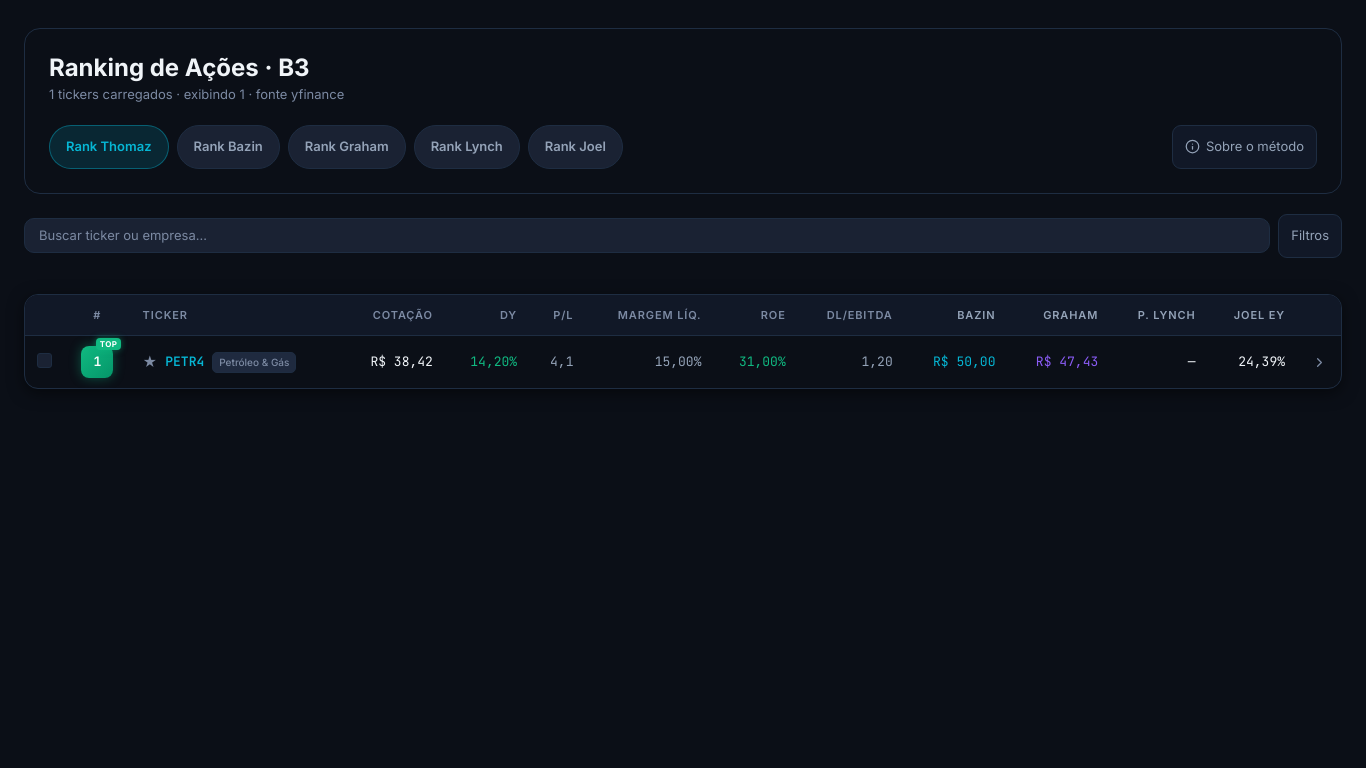
Scenario: RankingPage — controles secundários atrás do botão Filtros › no desktop, clicar em Filtros revela adicionar ticker e a faixa de setores
Click the button "Filtros".
click(1310, 236)  # box 1278,214 -> 1342,258
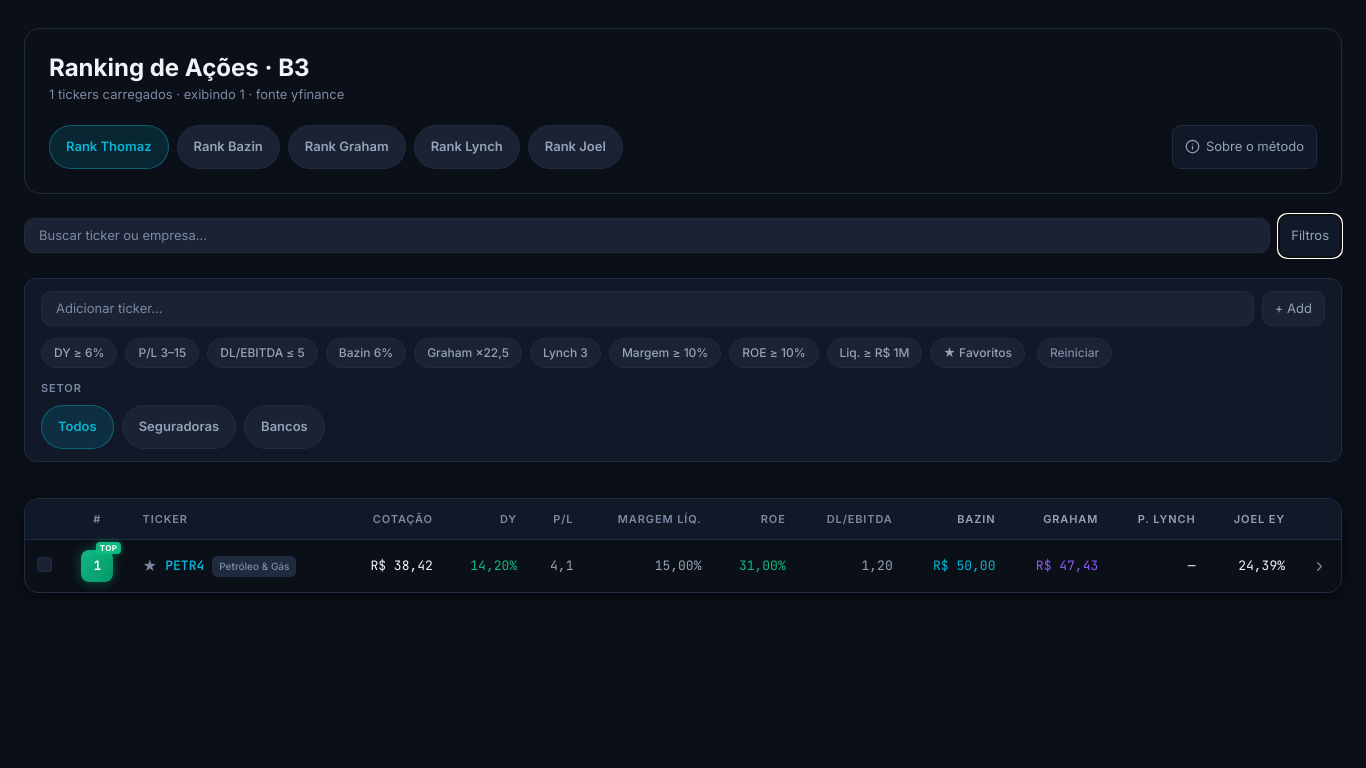
Expected: the field with placeholder "Adicionar ticker…" is shown, 41,290 -> 1254,326
Expected: the element named "Setor" is shown, 41,404 -> 325,448
